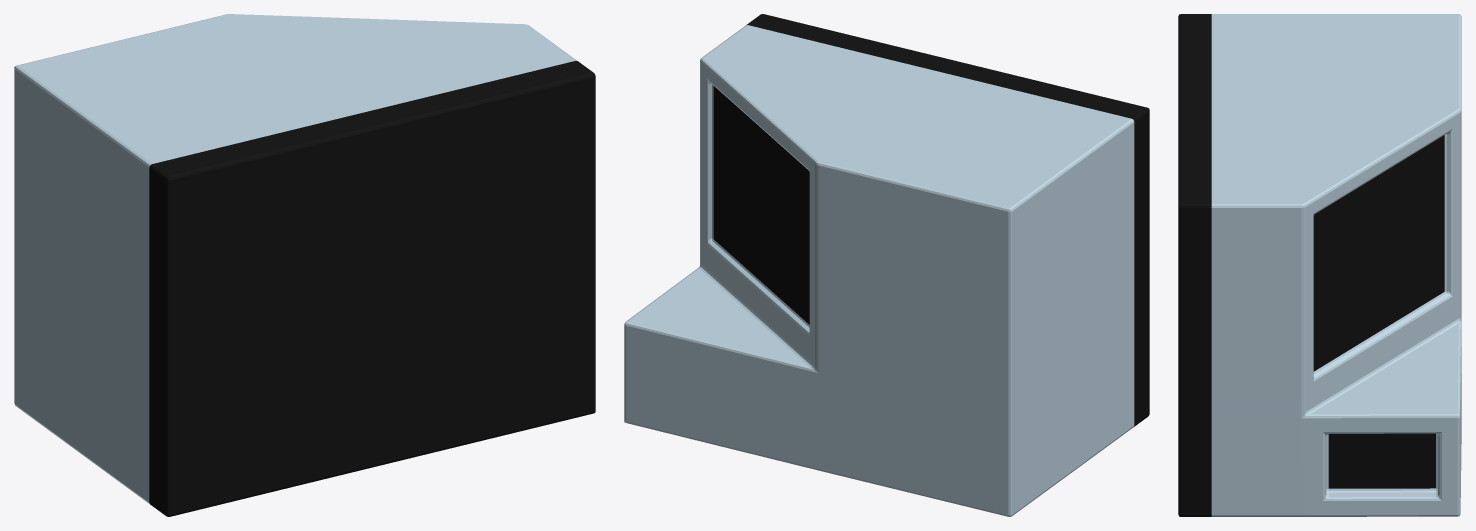
3 renders of one model, left to right at view 1: azimuth 30°, elevation 25°; view 2: azimuth 150°, elevation 25°; view 3: azimuth 270°, elevation 25°, orthographic. The views are drawn at different scales.
Visible parts, largest first — view 1: Cube; view 2: Cube; view 3: Cube.
Part boxes in pixels (<box>): Cube: <box>14,14,595,516</box>; Cube: <box>624,14,1149,516</box>; Cube: <box>1178,14,1461,516</box>.
Bounding box in the file's own units: 24.4 × 18.5 × 15.2.
